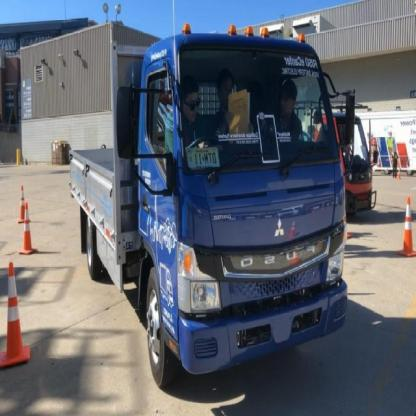truck: (72, 19, 356, 387)
